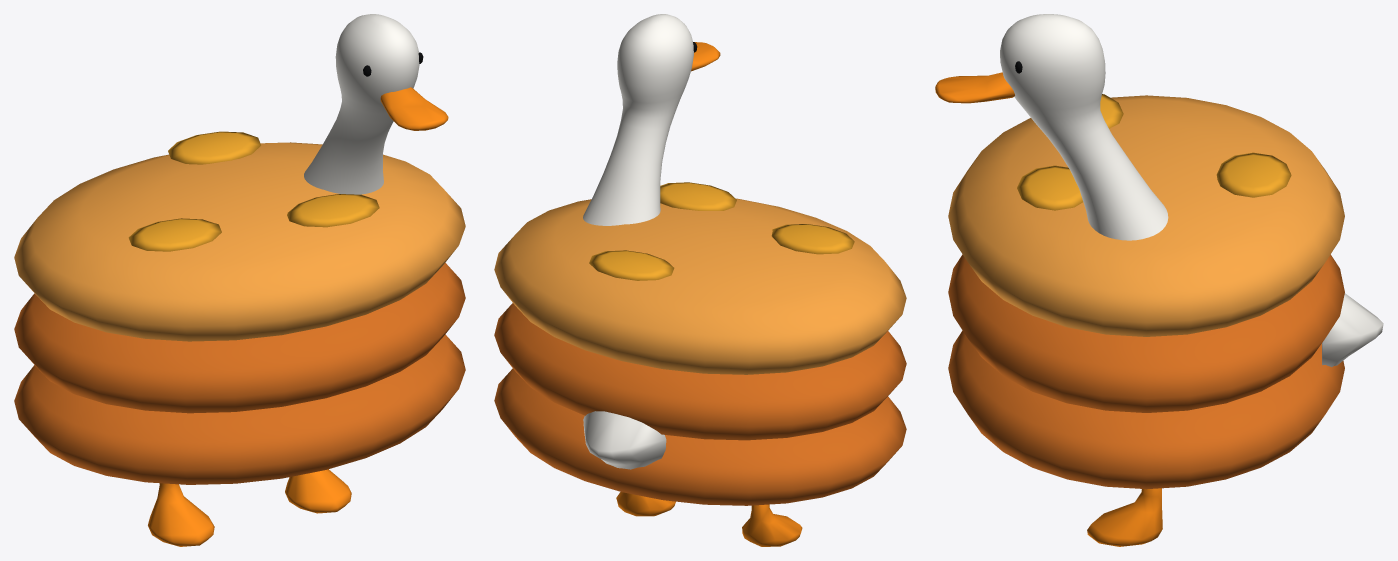
The model's file is duck-pancake.glb.
3 views of the same model, side by side, from view 1: azimuth 30°, elevation 25°; view 2: azimuth 150°, elevation 25°; view 3: azimuth 270°, elevation 25° (orthographic). The views are drawn at different scales.
Visible parts, largest first — view 1: duck-pancake; view 2: duck-pancake; view 3: duck-pancake.
Boxes of the visible parts, x1,y1,x2,y2 form: duck-pancake: [14, 14, 465, 546]; duck-pancake: [494, 14, 906, 546]; duck-pancake: [935, 14, 1383, 546].
Size of the model in its own units: 0.8547 by 1 by 0.7608.
1 material, 1 textured.
